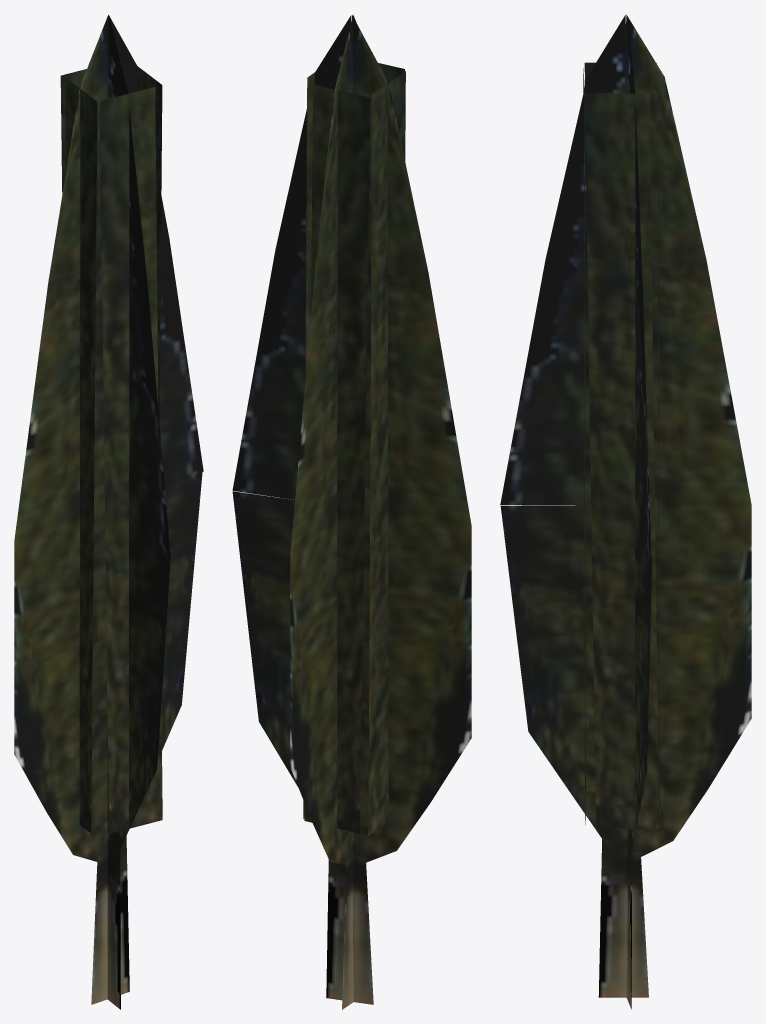
File: tree2.glb
The picture shows the model from 3 angles, left to right: view 1: azimuth 30°, elevation 25°; view 2: azimuth 150°, elevation 25°; view 3: azimuth 270°, elevation 25°; orthographic projection.
Visible parts, largest first — view 1: tree.ms3d.mo, tree.ms3d.mo.001; view 2: tree.ms3d.mo, tree.ms3d.mo.001; view 3: tree.ms3d.mo, tree.ms3d.mo.001.
Boxes of the visible parts, <box> form: tree.ms3d.mo: <box>14,14,203,1009</box>; tree.ms3d.mo.001: <box>60,66,162,833</box>; tree.ms3d.mo: <box>232,14,471,1009</box>; tree.ms3d.mo.001: <box>303,63,405,835</box>; tree.ms3d.mo: <box>500,14,751,1009</box>; tree.ms3d.mo.001: <box>583,62,659,828</box>.
Size of the model in its own units: 23.59 by 104 by 24.05.
2 materials, 2 textured.
